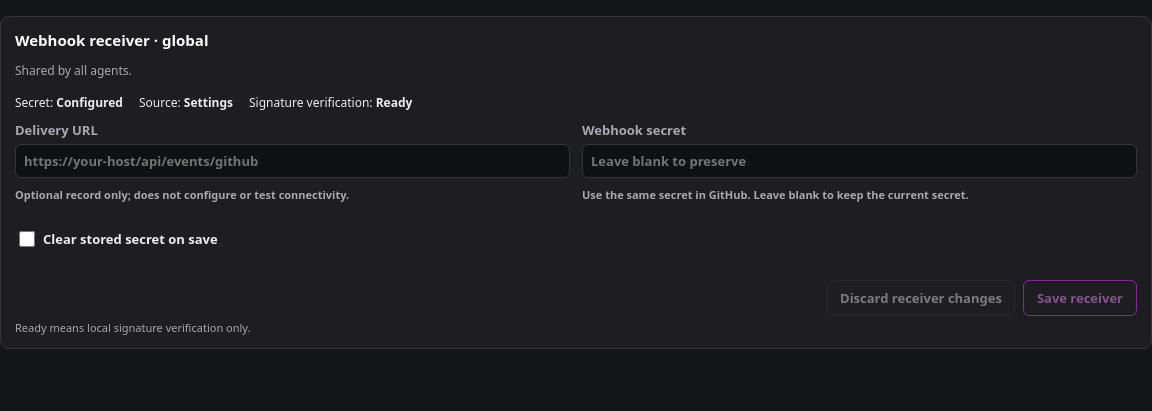
Test: sends a replacement with exact bytes then clears the password field
This screenshot has width=1152, height=411.
Expected: the text "Configured" is shown, [56, 94, 123, 111]
Type " exact secret bytes " into the password field labelled "Webhook secret" at (860, 161), box [582, 144, 1137, 178]
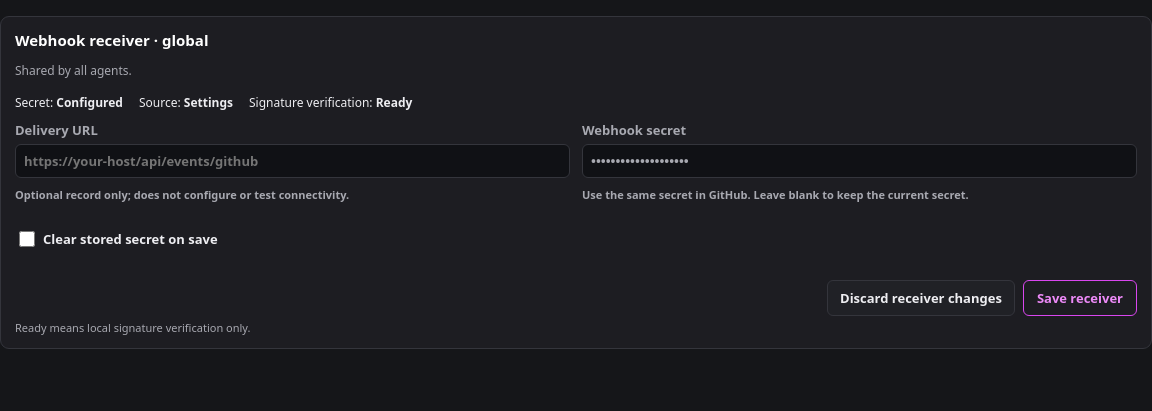
Click the button "Save receiver" at (1080, 298), box [1023, 280, 1137, 316]
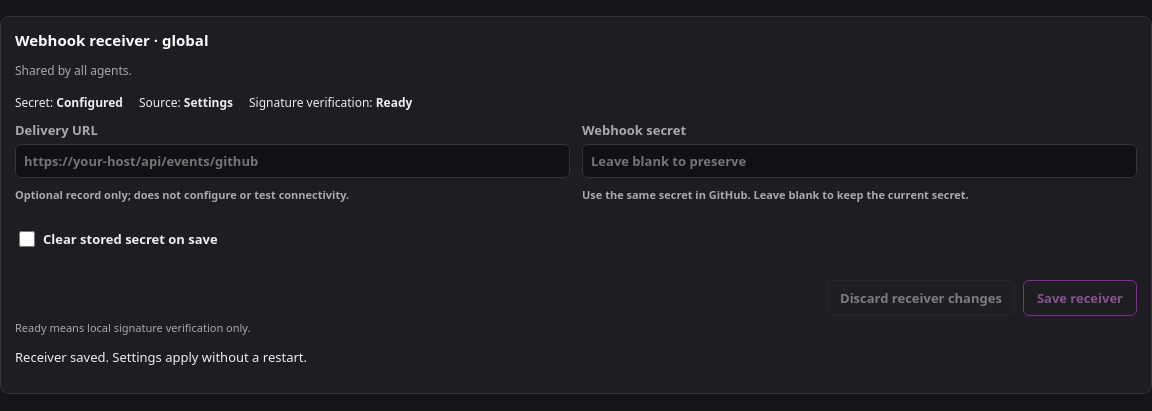
Expected: the text "Receiver saved. Settings apply without a restart." is shown, [15, 348, 307, 366]
Expected: the password field labelled "Webhook secret" is empty, [582, 144, 1137, 178]
